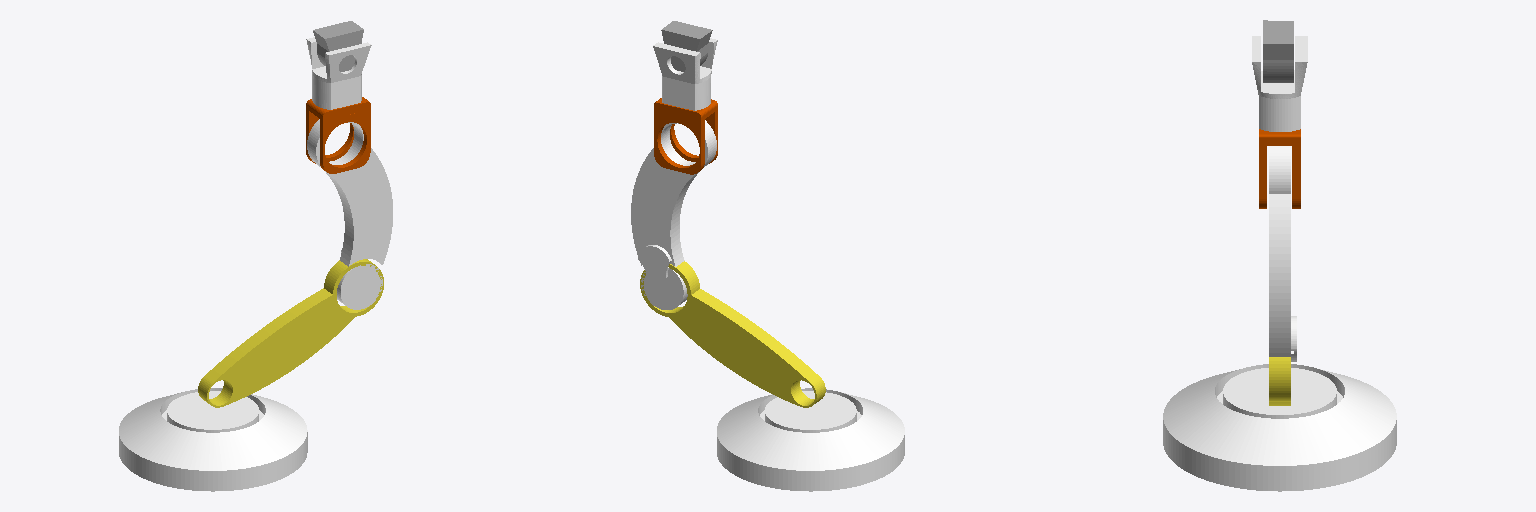
The robot description file, URDF, robot "bazu":
<robot name="bazu">
  <link name="world"/>

  <link name="base">
      <inertial>
        <mass value="20"/>
        <inertia ixx="3" ixy="0" ixz="0" iyy="3" iyz="0" izz="0.3" />
        <origin/>
      </inertial>
  
      <visual>
      <geometry>
        <!-- <mesh filename="[local-path]/ros2_workspace/src/bazu_6dof/meshes/base.stl"/> -->
        <mesh filename="package://bazu_6dof/base.stl"  />
      </geometry>
        <material name="white">
          <color rgba="1 1 1 1"/>
        </material>
      </visual>
  
      <collision>
        <geometry>
          <mesh filename="package://bazu_6dof/base.stl"  />
        </geometry>
      </collision>
    </link>

    <joint name="base_joint" type="fixed">
      <parent link="world"/>
      <child link="base"/>
    </joint>


  <link name="link_1">
      <inertial>
        <mass value="10"/>
        <inertia ixx="1" ixy="0" ixz="0" iyy="2.5" iyz="0" izz="0.5" />
        <origin/>
      </inertial>
  
      <visual>
        <geometry>
          <mesh filename="package://bazu_6dof/joint_1.stl"  />
        </geometry>
        <material name="black">
        </material>
      </visual>

      <collision>
        <geometry>
          <mesh filename="package://bazu_6dof/joint_1.stl"  />
        </geometry>
        <contact_coefficients mu="0" kp="1000.0" kd="1.0"/>
      </collision>

    </link>

    <joint name="joint_1" type="continuous">
      <parent link="base"/>
      <child link="link_1"/>
      <origin xyz="0 0 0.5" rpy="0 0.0 0.0"/>
      <axis xyz=" 0 0 1"/>
    </joint>



    <link name="link_2">
      <inertial>
        <mass value="10"/>
        <inertia ixx="1" ixy="0" ixz="0" iyy="2.5" iyz="0" izz="0.5" />
        <origin/>
      </inertial>
  
      <visual>
        <geometry>
          <mesh filename="package://bazu_6dof/joint_2.stl"  />
        </geometry>
        <material name="black">
        </material>
      </visual>

      <collision>
        <geometry>
          <mesh filename="package://bazu_6dof/joint_2.stl"  />
        </geometry>
        <contact_coefficients mu="0" kp="1000.0" kd="1.0"/>
      </collision>

    </link>

    <joint name="joint_2" type="revolute">
      <limit effort="1000.0"  lower='-2.6' upper='0.22'  velocity="0.5"/>
      
      <parent link="link_1"/>
      <child link="link_2"/>
      <origin xyz="0 0 0.2" rpy="0 0.0 0.0"/>
      <axis xyz=" 0 1 0"/>
      
       
    </joint>


    <link name="link_3">
      <inertial>
        <mass value="10"/>
        <inertia ixx="1" ixy="0" ixz="0" iyy="2.5" iyz="0" izz="0.5" />
        <origin/>
      </inertial>
  
      <visual>
        <geometry>
          <mesh filename="package://bazu_6dof/joint_3.stl"  />
        </geometry>
        <material name="white">
        </material>
      </visual>

      <collision>
        <geometry>
          <mesh filename="package://bazu_6dof/joint_3.stl"  />
        </geometry>
        <contact_coefficients mu="0" kp="1000.0" kd="1.0"/>
      </collision>

    </link>

    <joint name="joint_3" type="revolute">
      <parent link="link_2"/>
      <child link="link_3"/>
      <origin xyz="1.71 0 0.824" rpy="0 0.0 0.0"/>
      <axis xyz=" 0 1 0"/>
      <limit effort="1000.0"  lower='-0.9' upper='2.22' velocity="0.5"/>
        
    </joint>



    <link name="link_4">
      <inertial>
        <mass value="10"/>
        <inertia ixx="1" ixy="0" ixz="0" iyy="2.5" iyz="0" izz="0.5" />
        <origin/>
      </inertial>
  
      <visual>
        <geometry>
          <mesh filename="package://bazu_6dof/joint_4.stl"  />
        </geometry>
        <material name="black">
        </material>
      </visual>

      <collision>
        <geometry>
          <mesh filename="package://bazu_6dof/joint_4.stl"  />
        </geometry>
        <contact_coefficients mu="0" kp="1000.0" kd="1.0"/>
      </collision>

    </link>

    <joint name="joint_4" type="revolute">
      <parent link="link_3"/>
      <child link="link_4"/>
      <origin xyz="-0.25 0 1.73" rpy="0 0.0 0.0"/>
      <axis xyz=" 0 1 0"/>
      <limit effort="1000.0"   lower='-1.65' upper='1.17'  velocity="0.5"/>
      
    </joint>




    <link name="link_5">
      <inertial>
        <mass value="10"/>
        <inertia ixx="1" ixy="0" ixz="0" iyy="2.5" iyz="0" izz="0.5" />
        <origin/>
      </inertial>
  
      <visual>
        <geometry>
          <mesh filename="package://bazu_6dof/joint_5.stl"  />
        </geometry>
        <material name="white">
        </material>
      </visual>

      <collision>
        <geometry>
          <mesh filename="package://bazu_6dof/joint_5.stl"  />
        </geometry>
        <contact_coefficients mu="0" kp="1000.0" kd="1.0"/>
      </collision>

    </link>

    <joint name="joint_5" type="continuous">
      <parent link="link_4"/>
      <child link="link_5"/>
      <origin xyz="0 0 0.45" rpy="0 0.0 0.0"/>
      <axis xyz=" 0 0 1"/>
    </joint>




    <link name="link_6">
      <inertial>
        <mass value="10"/>
        <inertia ixx="1" ixy="0" ixz="0" iyy="2.5" iyz="0" izz="0.5" />
        <origin/>
      </inertial>
  
      <visual>
        <geometry>
          <mesh filename="package://bazu_6dof/joint_6.stl"  />
        </geometry>
        <material name="black">
        </material>
      </visual>

      <collision>
        <geometry>
          <mesh filename="package://bazu_6dof/joint_6.stl"  />
        </geometry>
        <contact_coefficients mu="0" kp="1000.0" kd="1.0"/>
      </collision>

    </link>

    <joint name="joint_6" type="revolute">
      <parent link="link_5"/>
      <child link="link_6"/>
      <origin xyz="0 -0.02 0.55" rpy="0 0.0 0.0"/>
      <axis xyz=" 0 1 0"/>
      <limit effort="1000.0"  lower='-1.14' upper='0.73' velocity="0.5"/>
      
      
    </joint>
<!--
<transmission name="transmission_arm1_a">
  <type>transmission_interface/SimpleTransmission</type>
  <joint name="arm1_a_joint">
    <hardwareInterface>hardware_interface/EffortJointInterface</hardwareInterface>
  </joint>
  <actuator name="motor_arm_1_a">
    <hardwareInterface>hardware_interface/EffortJointInterface</hardwareInterface>
    <mechanicalReduction>1</mechanicalReduction>
  </actuator>
</transmission>

<transmission name="transmission_arm1_b">
  <type>transmission_interface/SimpleTransmission</type>
  <joint name="arm1_b_joint">
    <hardwareInterface>hardware_interface/EffortJointInterface</hardwareInterface>
  </joint>
  <actuator name="motor_arm_1_b">
    <hardwareInterface>hardware_interface/EffortJointInterface</hardwareInterface>
    <mechanicalReduction>1</mechanicalReduction>
  </actuator>
</transmission>

<gazebo>
  <plugin name="gazebo_ros_control" filename="libgazebo_ros_control.so">
    <robotSimType>gazebo_ros_control/DefaultRobotHWSim</robotSimType>
  </plugin>
</gazebo>

<gazebo reference="base">
<material>Gazebo/Black</material>
</gazebo>
<gazebo reference="pillar">
<material>Gazebo/White</material>
</gazebo>
<gazebo reference="arm_holder">
<material>Gazebo/Orange</material>
</gazebo>
<gazebo reference="arm1_a">
<material>Gazebo/Yellow</material>
</gazebo>
<gazebo reference="arm1_b">
<material>Gazebo/Blue</material>
</gazebo> -->
</robot>

--- What the picture shows (computed from the rendered views, not written in the file) ---
3 views of the same robot in one strip: view 1: azimuth 30°, elevation 25°; view 2: azimuth 150°, elevation 25°; view 3: azimuth 270°, elevation 25° (orthographic).
Model bazu with 8 links and 7 joints (4 revolute, 2 continuous, 1 fixed), rooted at world, posed all joints at 0.
Visible links, largest first — view 1: base, link_2, link_3, link_5, link_4, link_6; view 2: base, link_2, link_3, link_5, link_4, link_6; view 3: base, link_3, link_5, link_6, link_4, link_2.
Boxes of the visible links, x1,y1,x2,y2 form: base: (119, 388, 307, 491); link_2: (198, 259, 383, 407); link_3: (307, 119, 392, 309); link_5: (306, 37, 371, 109); link_4: (306, 97, 370, 173); link_6: (313, 21, 363, 71); base: (717, 388, 904, 491); link_2: (640, 261, 825, 407); link_3: (631, 120, 716, 309); link_5: (653, 38, 717, 110); link_4: (654, 98, 717, 174); link_6: (661, 21, 712, 71); base: (1163, 364, 1396, 491); link_3: (1269, 146, 1296, 361); link_5: (1252, 36, 1307, 131); link_6: (1263, 20, 1293, 82); link_4: (1259, 129, 1300, 208); link_2: (1269, 357, 1290, 405).
Size in the robot's own frame: 131 by 83.09 by 190 metres.
Meshes: 7 distinct files referenced, 6 mesh visuals loaded (6 binary STL); not drawn: 1 (reference not matched to a file when rendering).
